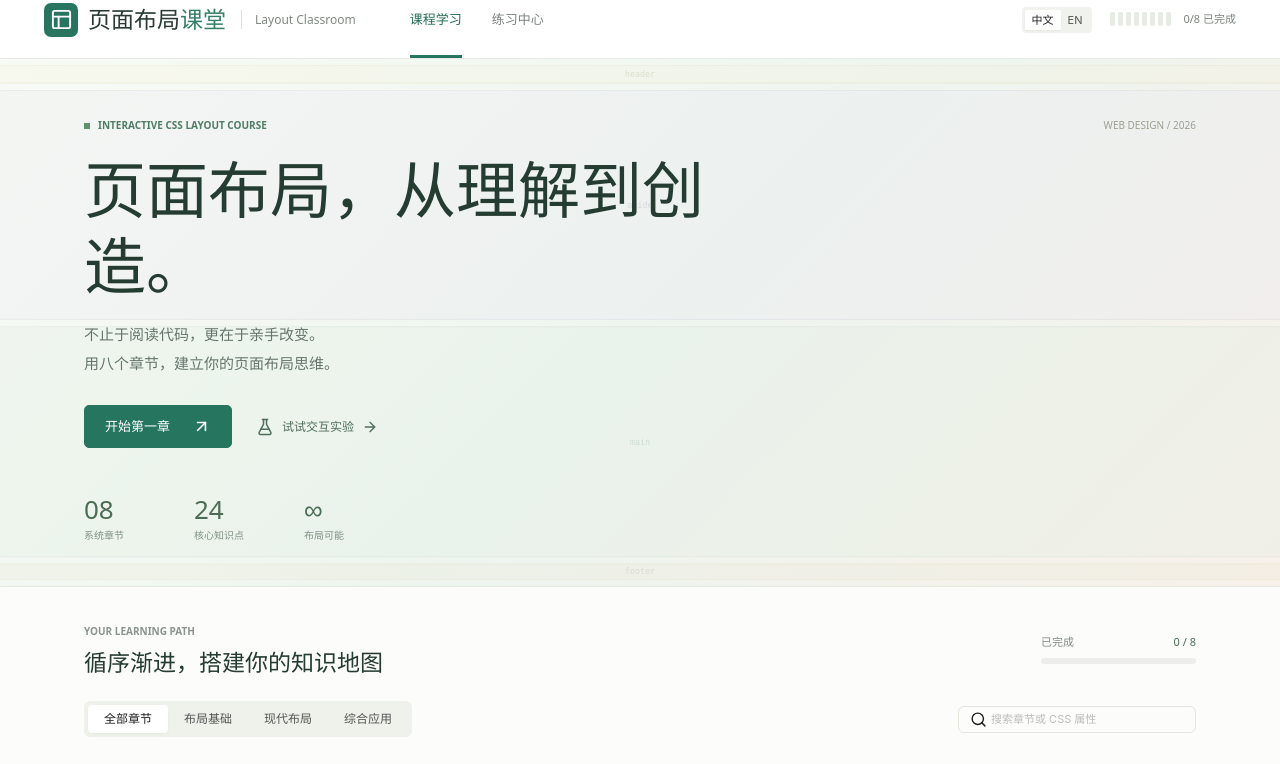
Scenario: switches to English and persists the language
Click the text "EN" at (1075, 20), box [1068,12,1082,26]
(page scrolled)
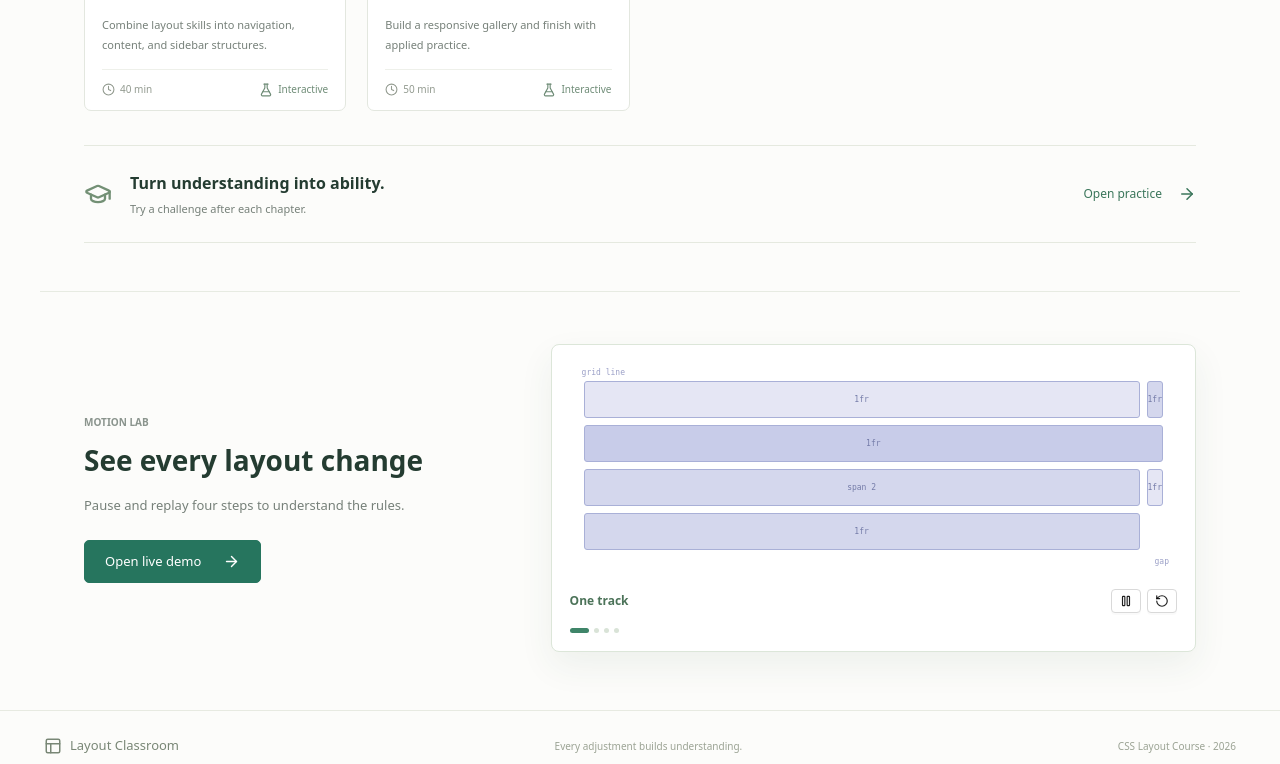
Check: the link "Layout Classroom" is shown, box [44,735,179,757]
